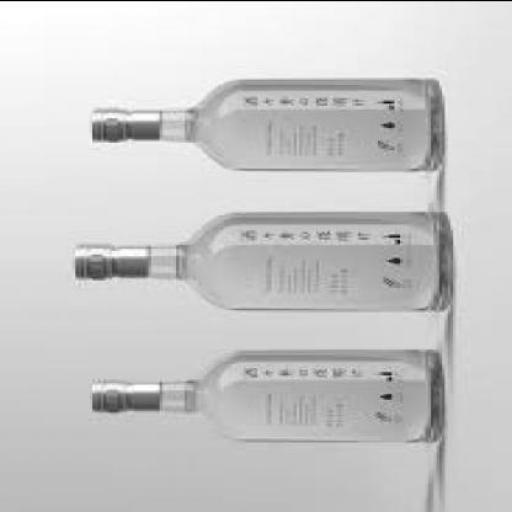glass: (74, 212, 448, 311), (92, 348, 444, 444), (90, 80, 442, 174)
metal: (73, 246, 145, 281), (87, 382, 153, 414), (90, 112, 154, 144)
